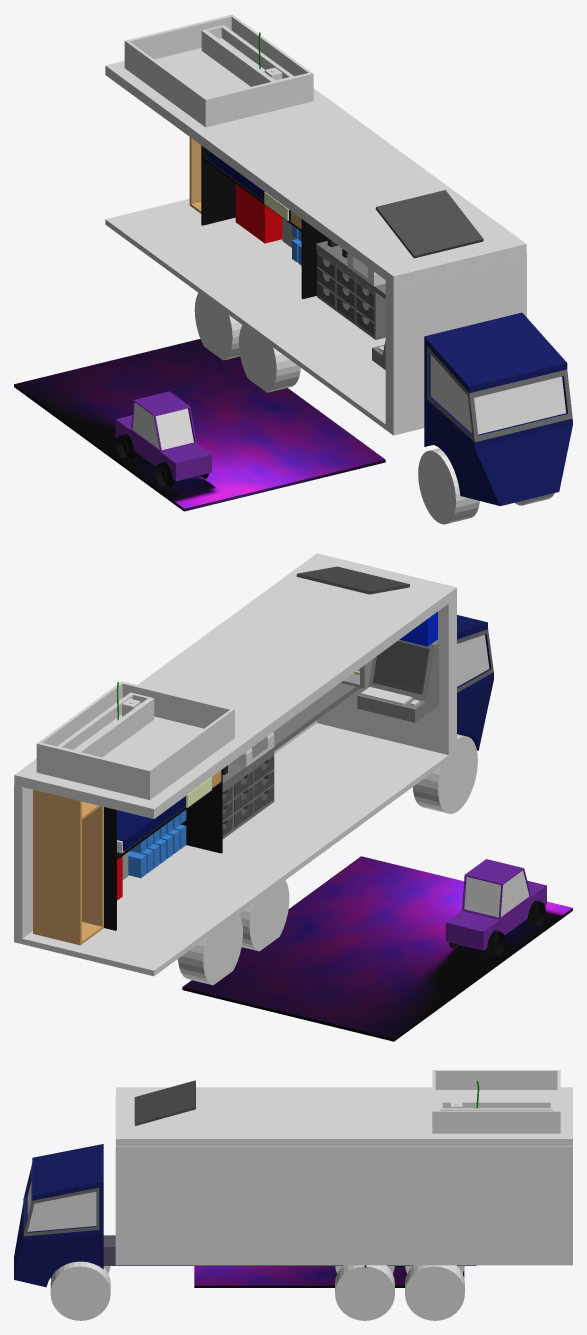
File: ptruck.glb
The picture shows the model from 3 angles, top to bottom: view 1: azimuth 30°, elevation 25°; view 2: azimuth 150°, elevation 25°; view 3: azimuth 270°, elevation 25°; orthographic projection. The views are drawn at different scales.
Visible parts, largest first — view 1: Plane.031, Plane, Plane.005, Plane.002, Plane.045, TruckClickable, Plane.006, Cylinder, Plane.047, Cylinder.002, Cylinder.004, Plane.009 (+8 smaller); view 2: Plane.031, Plane, Plane.005, Plane.045, Plane.039, TruckClickable, Plane.002, Cylinder, Plane.047, Cylinder.004, Plane.019, Plane.004 (+11 smaller); view 3: Plane.031, Plane.005, Plane.002, Plane.045, Plane, Cylinder.001, Cylinder.005, Cylinder.003, Plane.006, Plane.047, Plane.003.
Part boxes in pixels (box(x1,y1,x2,y2)): Plane.031: box(105, 198, 526, 435); Plane: box(14, 339, 385, 511); Plane.005: box(105, 61, 526, 285); Plane.002: box(424, 312, 572, 506); Plane.045: box(124, 14, 313, 127); TruckClickable: box(115, 391, 211, 481); Plane.006: box(375, 190, 483, 258); Cylinder: box(418, 448, 479, 524); Plane.047: box(201, 25, 293, 86); Cylinder.002: box(239, 325, 300, 392); Cylinder.004: box(194, 293, 242, 360); Plane.009: box(201, 145, 235, 225); Plane.031: box(14, 598, 456, 976); Plane: box(182, 856, 572, 1041); Plane.005: box(14, 553, 456, 818); Plane.045: box(36, 681, 234, 799); Plane.039: box(33, 789, 103, 945); TruckClickable: box(445, 859, 546, 950); Plane.002: box(457, 615, 493, 750); Cylinder: box(413, 734, 477, 813); Plane.047: box(57, 692, 154, 757); Cylinder.004: box(178, 914, 242, 985); Plane.019: box(357, 640, 438, 722); Plane.004: box(222, 683, 360, 788); Plane.031: box(115, 1095, 572, 1265); Plane.005: box(116, 1087, 572, 1146); Plane.002: box(14, 1144, 103, 1287); Plane.045: box(432, 1070, 560, 1133); Plane: box(194, 1266, 464, 1287); Cylinder.001: box(50, 1261, 110, 1320); Cylinder.005: box(405, 1265, 464, 1320); Cylinder.003: box(335, 1265, 394, 1320); Plane.006: box(134, 1080, 195, 1125); Plane.047: box(440, 1101, 552, 1110); Plane.003: box(103, 1235, 476, 1265).
Size of what is drawn, in the model's own units: 49.62 by 46.68 by 103.
Materials: 47 (1 with a texture image).
